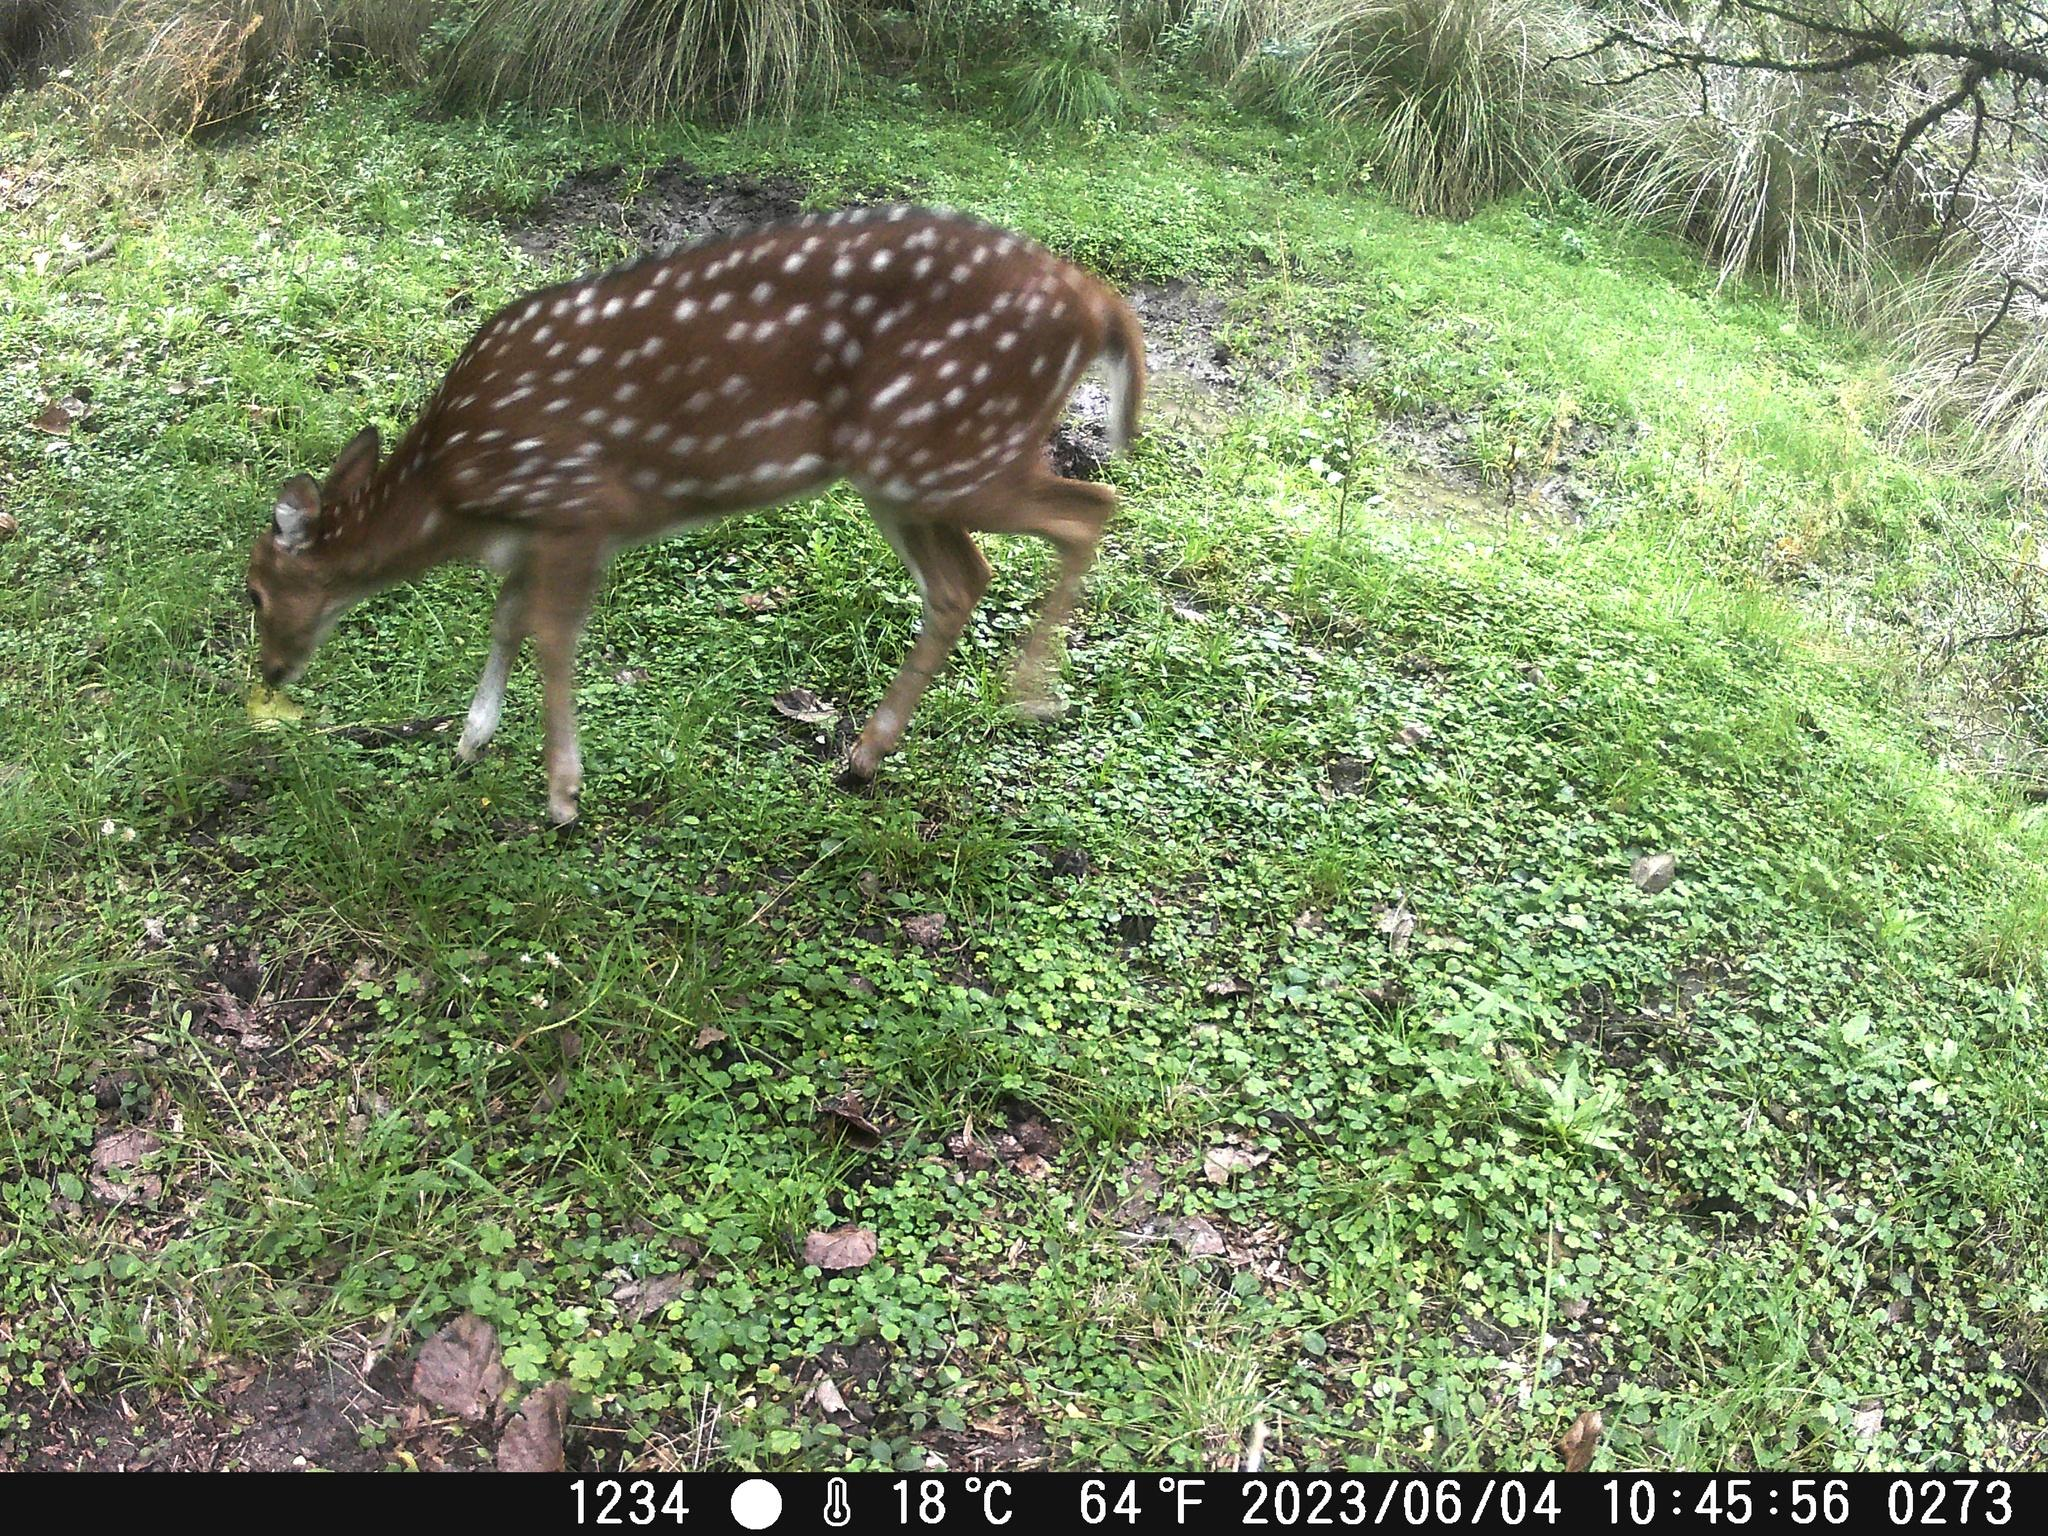Deer: (247, 207, 1143, 824)
